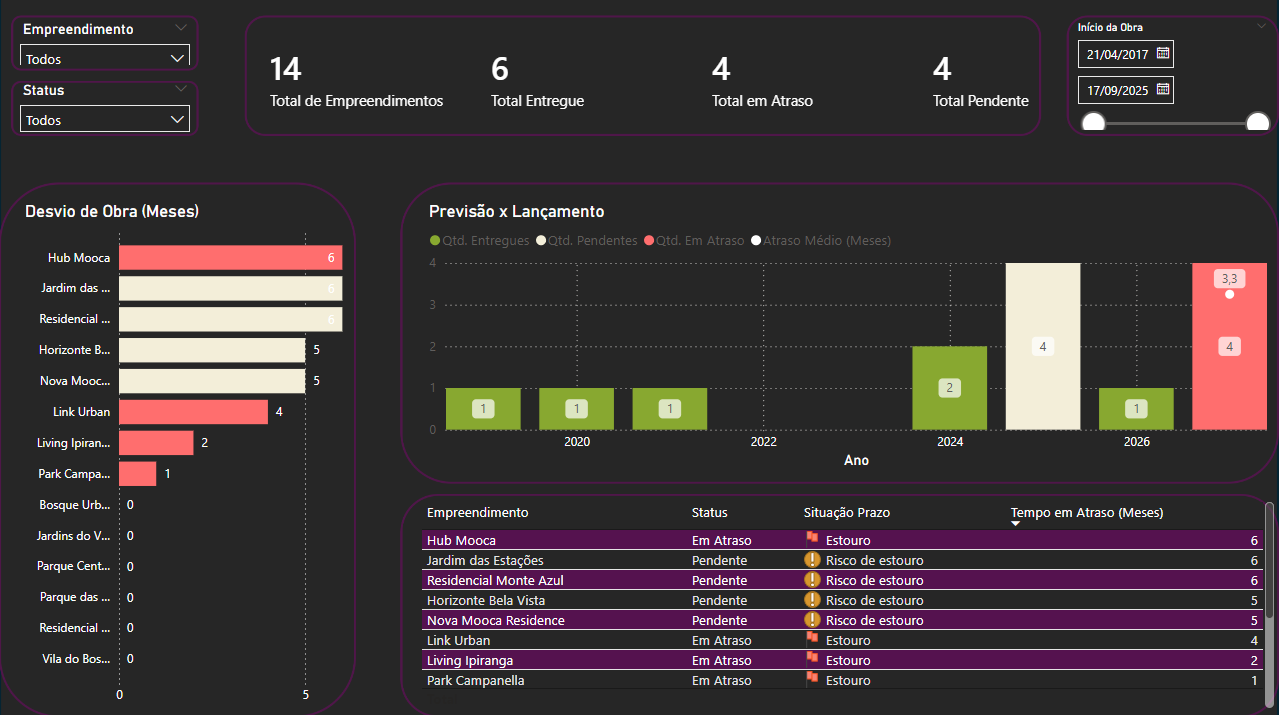

Layout of this report page (visuals, bound fields, positions):
{"tool":"powerbi","page":{"name":"Página 1","canvas":[1280,720],"ordinal":0},"visuals":[{"type":"slicer","fields":{"Values":["Gestão de Obras.Empreendimento"]},"box":[11,17,190,49],"z":0},{"type":"clusteredBarChart","title":"Desvio de Obra (Meses)","fields":{"Category":["Gestão de Obras.Empreendimento","Gestão de Obras.Situação Prazo"],"Y":["Sum(Gestão de Obras.Tempo em Atraso (Meses))"]},"box":[20.9,201.8,345.5,511.8],"z":1000},{"type":"lineStackedColumnComboChart","title":"Previsão x Lançamento","fields":{"Category":["Gestão de Obras.Previsão de Entrega.Variation.Hierarquia de datas.Ano"],"Y":["Gestão de Obras.Qtd. Entregues","Gestão de Obras.Qtd. Pendentes","Gestão de Obras.Qtd. Em Atraso"],"Y2":["Gestão de Obras.Atraso Médio (Meses)"]},"box":[425,202,848,272],"z":2000},{"type":"slicer","fields":{"Values":["Gestão de Obras.Status"]},"box":[10.9,78.2,190,56.4],"z":3000},{"type":"slicer","fields":{"Values":["Gestão de Obras.Início da Obra"]},"box":[1066,17,214,114],"z":4000},{"type":"cardVisual","fields":{"Data":["Gestão de Obras.Qtd. Empreendimentos","Gestão de Obras.Qtd. Entregues","Gestão de Obras.Qtd. Em Atraso","Gestão de Obras.Qtd. Pendentes"]},"box":[242,0,912,156],"z":5000},{"type":"tableEx","fields":{"Values":["Gestão de Obras.Empreendimento","Gestão de Obras.Status","Gestão de Obras.Situação Prazo","Gestão de Obras.Tempo em Atraso (Meses)"]},"box":[417,498,863,216],"z":6000}]}

Visuals, with their boxes in screenshot pixels (x1, y1, x2, y2), scaled from the page's 1280x720 canvas onto the 1279x715 screenshot:
slicer - Gestão de Obras.Empreendimento: <bbox>11, 17, 201, 66</bbox>
"Desvio de Obra (Meses)" clusteredBarChart: <bbox>21, 200, 366, 709</bbox>
"Previsão x Lançamento" lineStackedColumnComboChart: <bbox>425, 201, 1272, 471</bbox>
slicer - Gestão de Obras.Status: <bbox>11, 78, 201, 134</bbox>
slicer - Gestão de Obras.Início da Obra: <bbox>1065, 17, 1278, 130</bbox>
cardVisual - Gestão de Obras.Qtd. Empreendimentos x Gestão de Obras.Qtd. Entregues: <bbox>242, 0, 1153, 155</bbox>
tableEx - Gestão de Obras.Empreendimento x Gestão de Obras.Status: <bbox>417, 495, 1278, 709</bbox>
